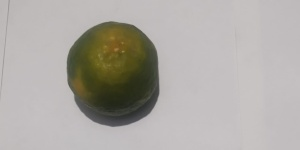BAD: (65, 19, 160, 114)
